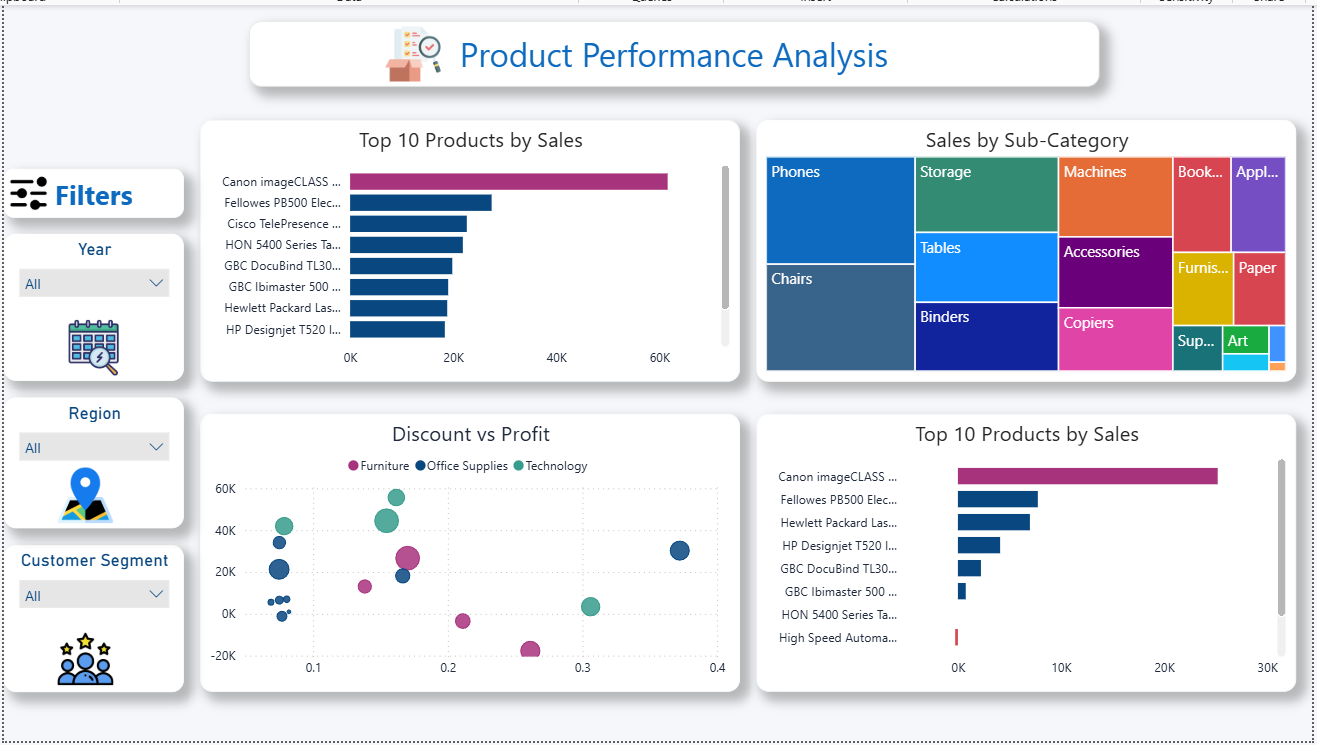

Layout of this report page (visuals, bound fields, positions):
{"tool":"powerbi","page":{"name":"Page 2","canvas":[1280,720],"ordinal":1},"visuals":[{"type":"clusteredBarChart","title":"Top 10 Products by Sales","fields":{"Y":["Measures (2).Total Sales"],"Category":["DimProduct.ProductName"]},"box":[192,112,528,256],"z":0},{"type":"treemap","title":"Sales by Sub-Category","fields":{"Group":["DimProduct.SubCategory"],"Values":["Measures (2).Total Sales"]},"box":[736,112,528,256],"z":1000},{"type":"slicer","title":"Year","fields":{"Values":["DimDate.OrderYear"]},"box":[0,224,176,144],"z":1000,"group":"g1"},{"type":"scatterChart","title":"Discount vs Profit","fields":{"Category":["DimProduct.SubCategory"],"X":["Avg(FactSales.Discount)"],"Y":["Measures (2).Total Profit"],"Size":["Measures (2).Total Sales"],"Series":["DimProduct.Category"]},"box":[192,400,528,272],"z":2000},{"type":"shape","box":[0,160,176,48],"z":3000},{"type":"slicer","title":"Customer Segment","fields":{"Values":["DimCustomer.Segment"]},"box":[0,528,176,144],"z":3000,"group":"g1"},{"type":"image","box":[0,160,48,48],"z":4000},{"type":"slicer","title":"Region","fields":{"Values":["DimLocation.Region"]},"box":[0,384,176,128],"z":4000,"group":"g1"},{"type":"group","id":"g1","title":"Group 2","box":[0,224,176,448],"z":5000},{"type":"group","id":"g2","title":"Group 1","box":[240,16,832,64],"z":6000},{"type":"clusteredBarChart","title":"Top 10 Products by Sales","fields":{"Category":["DimProduct.ProductName"],"Y":["Measures (2).Total Profit"]},"box":[736,400,528,272],"z":7000},{"type":"group","id":"g3","title":"Group 4","box":[240,16,832,64],"z":8000,"group":"g2"},{"type":"image","box":[368,16,64,64],"z":8501,"group":"g2"},{"type":"shape","box":[240,16,832,64],"z":10000,"group":"g3"},{"type":"image","box":[48,608,64,64],"z":12000,"group":"g1"},{"type":"image","box":[48,432,64,96],"z":13000,"group":"g1"},{"type":"image","box":[48,304,80,64],"z":14000,"group":"g1"}]}

Visuals, with their boxes on the page's 1280x720 design canvas (x1, y1, x2, y2). These are canvas units, not pixel positions in the 1317x745 screenshot, which may show the page scaled, cropped or inside an application window:
"Top 10 Products by Sales" clusteredBarChart: bbox=[192, 112, 720, 368]
"Sales by Sub-Category" treemap: bbox=[736, 112, 1264, 368]
"Year" slicer: bbox=[0, 224, 176, 368]
"Discount vs Profit" scatterChart: bbox=[192, 400, 720, 672]
shape: bbox=[0, 160, 176, 208]
"Customer Segment" slicer: bbox=[0, 528, 176, 672]
image: bbox=[0, 160, 48, 208]
"Region" slicer: bbox=[0, 384, 176, 512]
"Group 2" group: bbox=[0, 224, 176, 672]
"Group 1" group: bbox=[240, 16, 1072, 80]
"Top 10 Products by Sales" clusteredBarChart: bbox=[736, 400, 1264, 672]
"Group 4" group: bbox=[240, 16, 1072, 80]
image: bbox=[368, 16, 432, 80]
shape: bbox=[240, 16, 1072, 80]
image: bbox=[48, 608, 112, 672]
image: bbox=[48, 432, 112, 528]
image: bbox=[48, 304, 128, 368]
